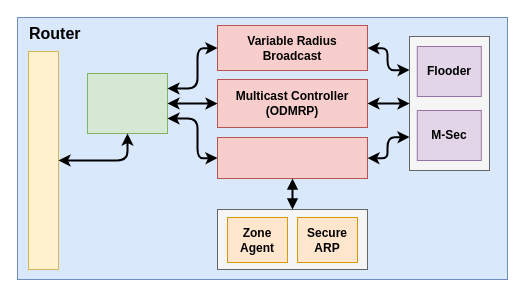
Some shapes in this 525 by 297 pixel diagram are drawn without their labels. The shapes that lost their labels are listed below. From the top down, each one's centre as x and y in pixels, then its label:
At [127,103]: "Forwarder".
At [43,160]: "Kernel Interface".
At [292,157]: "Unicast Controller (ZHLS)".
